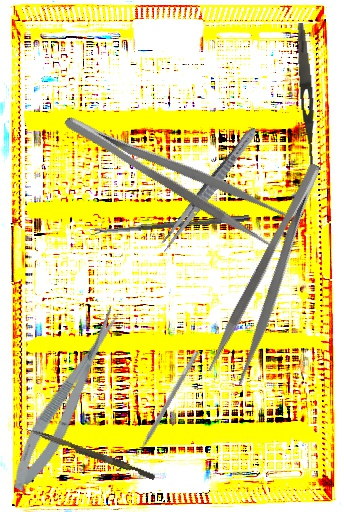Dressing Forceps: (60, 93, 289, 250), (204, 160, 344, 387), (156, 123, 261, 256), (293, 22, 321, 175)
Micro Scissor: (1, 303, 134, 498)
Pusher: (23, 426, 157, 481)
Spatula Surgical: (129, 348, 200, 461)
Surgical Spoon: (89, 214, 250, 235)
